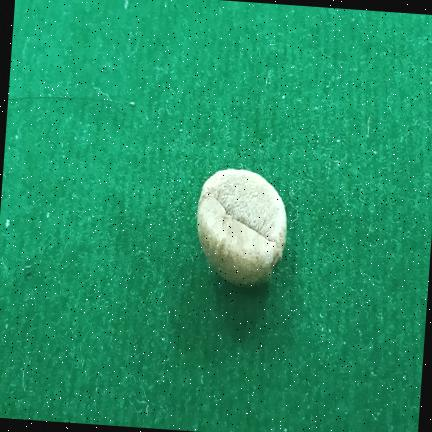cut: (197, 168, 286, 286)
